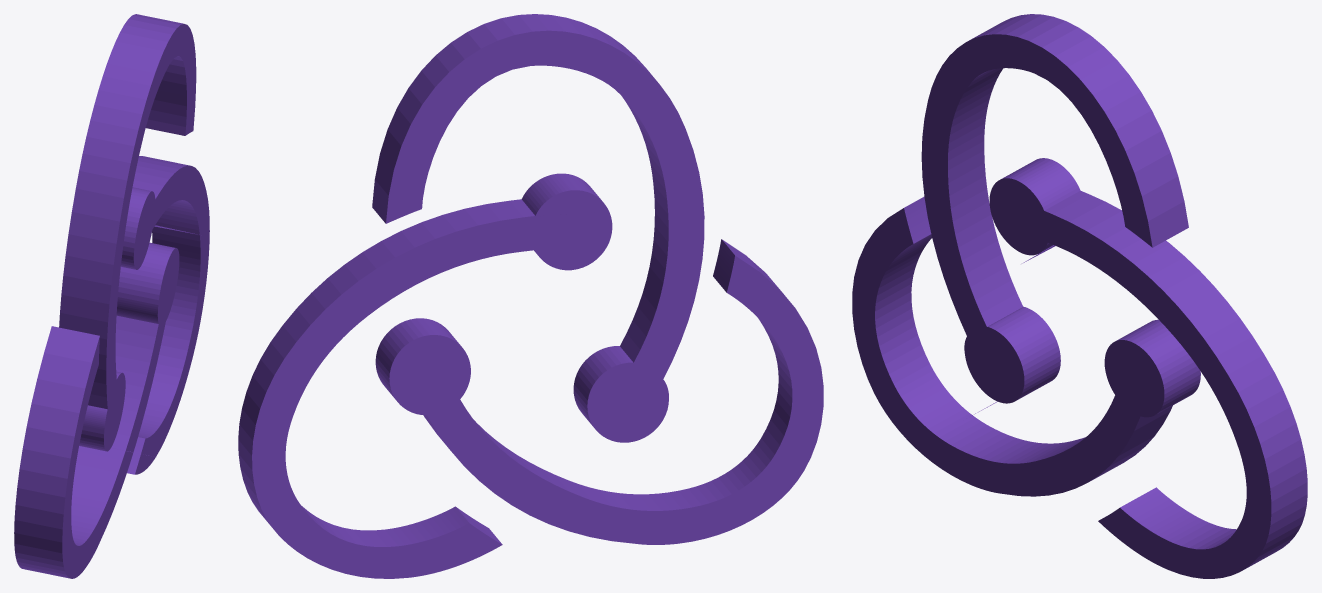
Rendered from redux.glb.
The picture shows the model from 3 angles, left to right: view 1: azimuth 30°, elevation 25°; view 2: azimuth 150°, elevation 25°; view 3: azimuth 270°, elevation 25°; orthographic projection. The views are drawn at different scales.
Parts seen in each view (by area): view 1: redux; view 2: redux; view 3: redux.
Boxes of the visible parts, left/top/right/bottom form: redux: left=14, top=14, right=209, bottom=578; redux: left=238, top=14, right=823, bottom=578; redux: left=852, top=14, right=1307, bottom=578.
Bounding box in the file's own units: 15.1 × 18.78 × 15.28.
